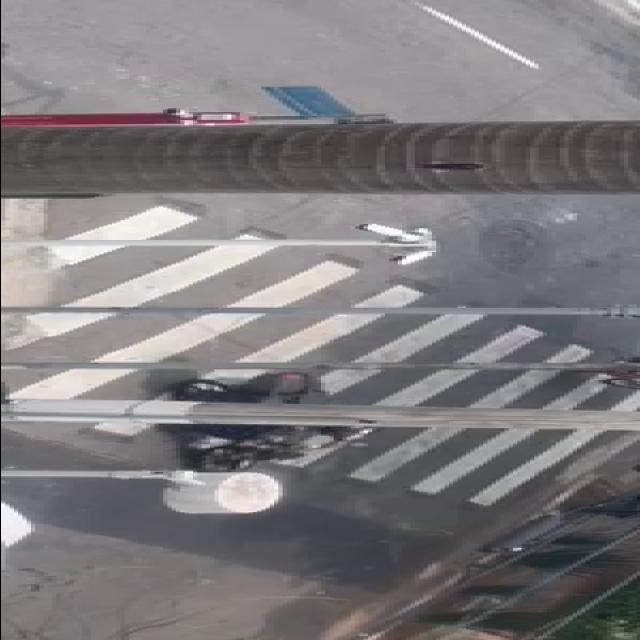motorbike: (154, 373, 378, 472)
